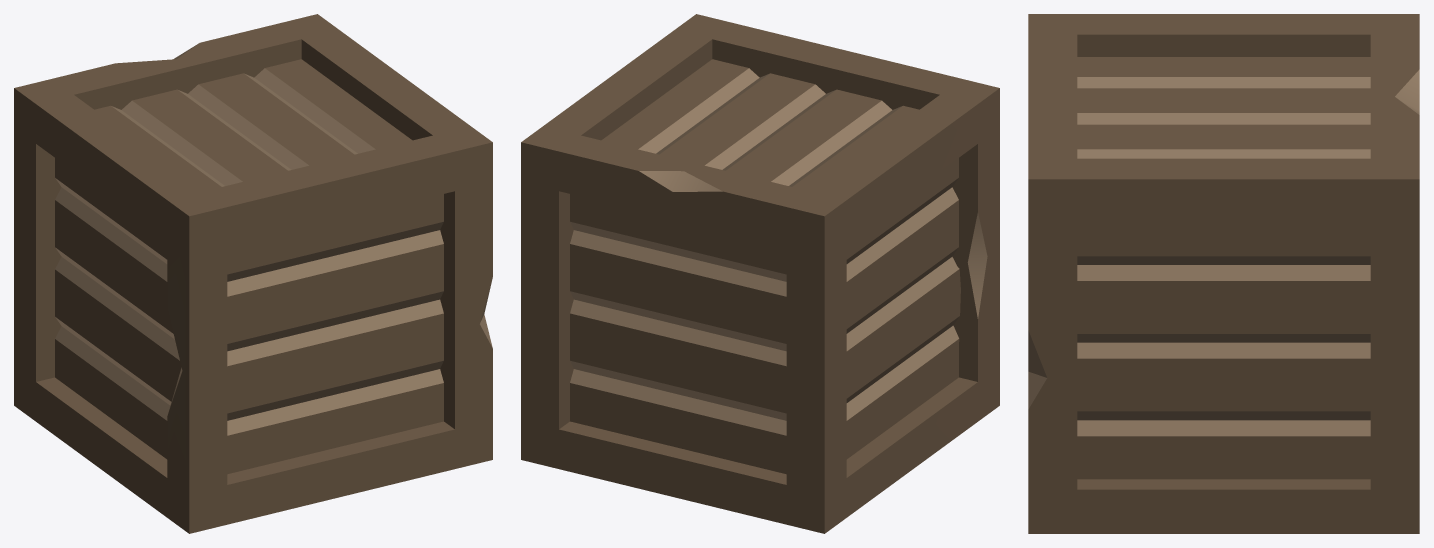
The model's file is 06_LP_Crate_B.fbx.
3 renders of one model, left to right at view 1: azimuth 30°, elevation 25°; view 2: azimuth 150°, elevation 25°; view 3: azimuth 270°, elevation 25°, orthographic. The views are drawn at different scales.
Visible parts, largest first — view 1: Crate_B; view 2: Crate_B; view 3: Crate_B.
Part boxes in pixels (x1,y1,x2,y2): Crate_B: [14, 14, 492, 533]; Crate_B: [521, 14, 999, 533]; Crate_B: [1028, 14, 1419, 533].
Bounding box in the file's own units: 80 × 80 × 80.
